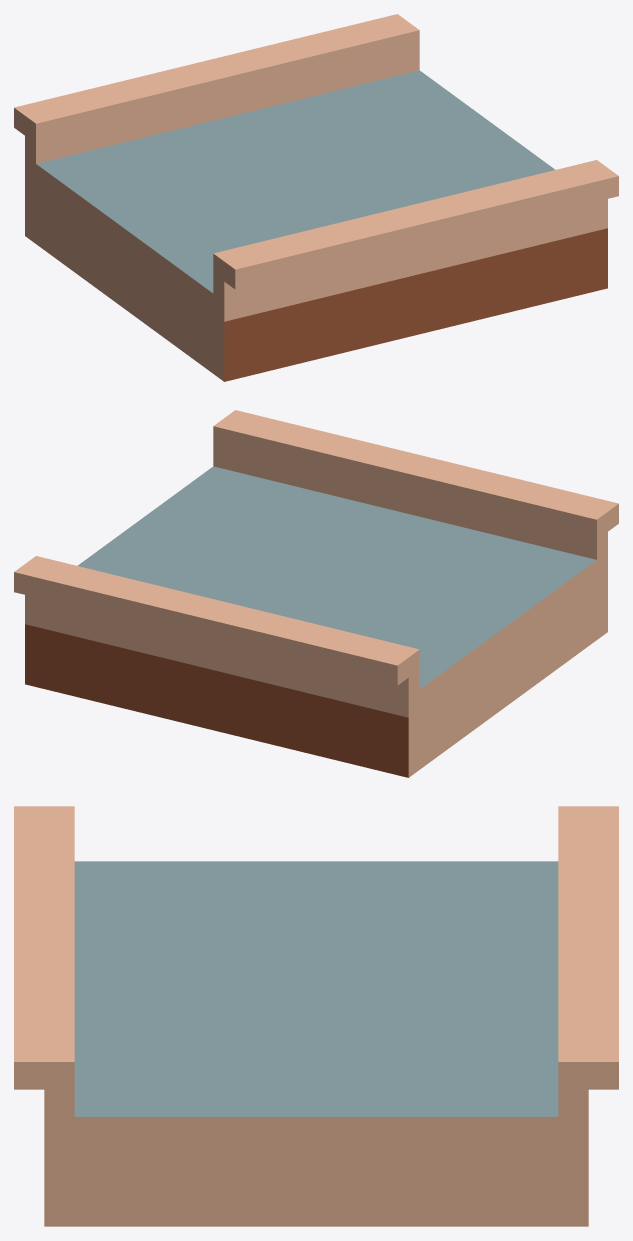
Rendered from bridge_center_wood.glb.
The picture shows the model from 3 angles, top to bottom: view 1: azimuth 30°, elevation 25°; view 2: azimuth 150°, elevation 25°; view 3: azimuth 270°, elevation 25°; orthographic projection. The views are drawn at different scales.
Parts seen in each view (by area): view 1: bridge_center_wood; view 2: bridge_center_wood; view 3: bridge_center_wood.
Boxes of the visible parts, x1,y1,x2,y2 form: bridge_center_wood: (14,14,618,381); bridge_center_wood: (14,410,618,777); bridge_center_wood: (14,806,618,1226).
Size of the model in its own units: 1 by 0.3 by 1.
